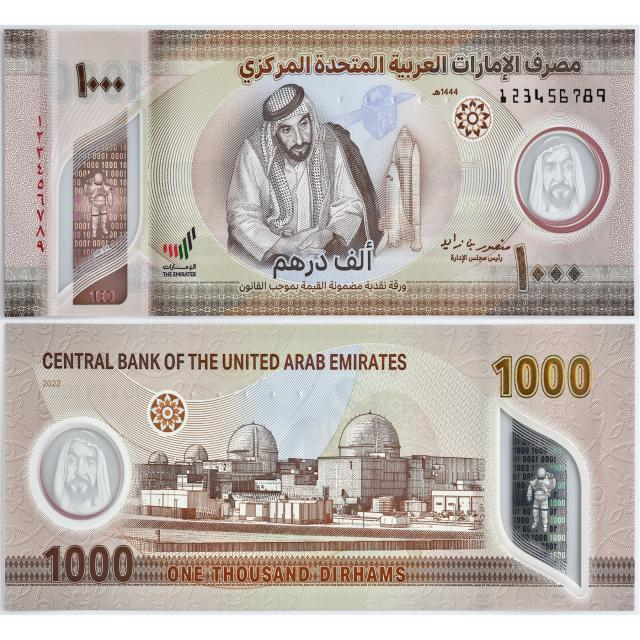1000_AED: (4, 25, 634, 317), (6, 325, 632, 609)
